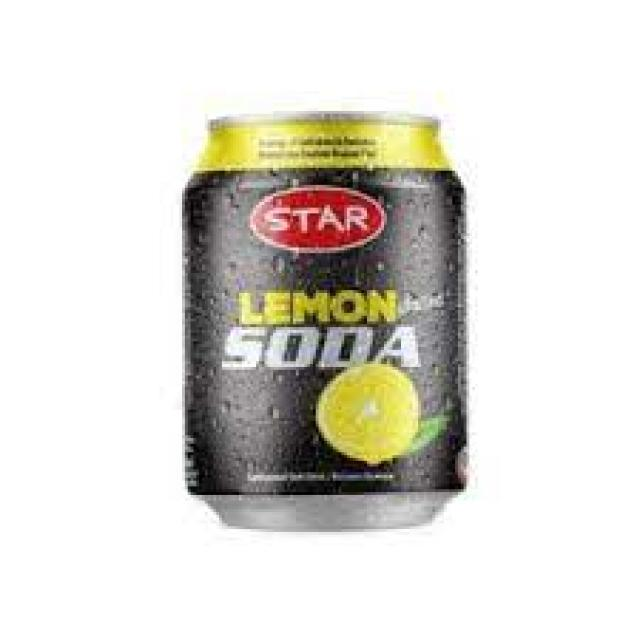Cans: (174, 105, 481, 532)
